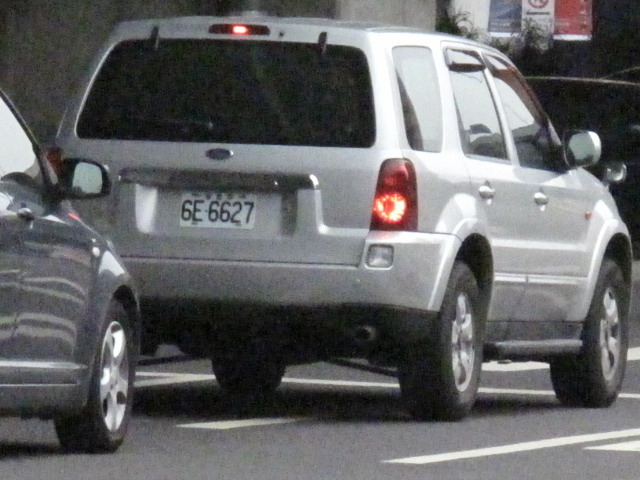plate: (178, 191, 259, 231)
